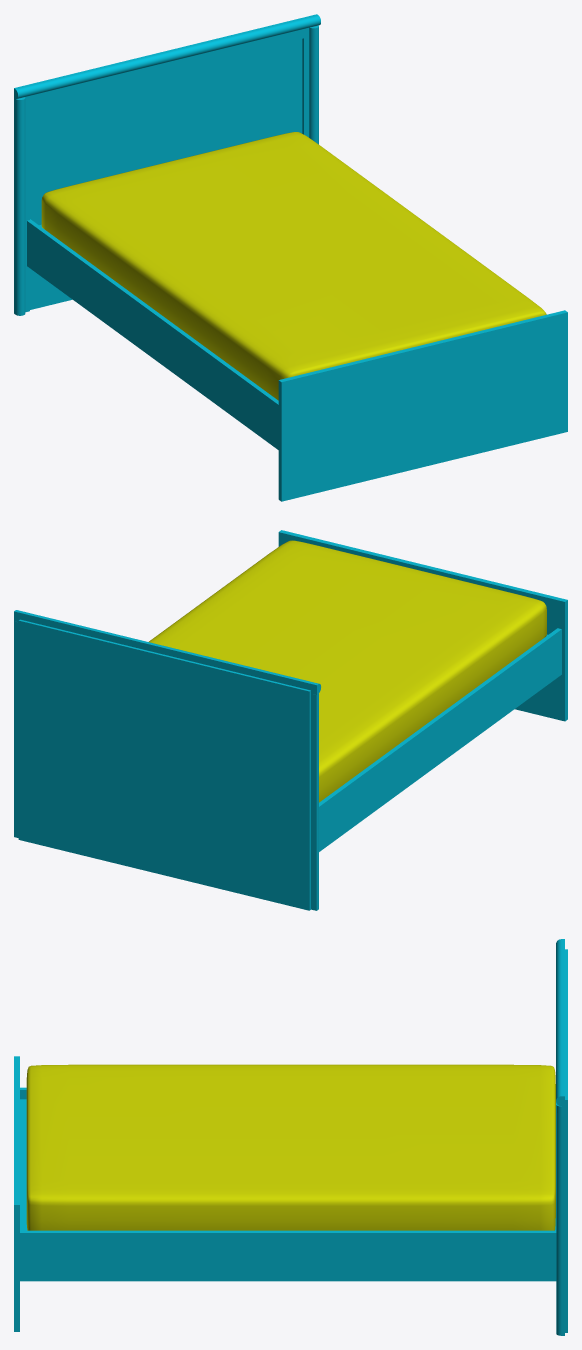
Rendered from SM_Bed_02.FBX.
3 views of the same model, one above another, from view 1: azimuth 30°, elevation 25°; view 2: azimuth 150°, elevation 25°; view 3: azimuth 270°, elevation 25° (orthographic). The views are drawn at different scales.
Visible parts, largest first — view 1: SM_Bed_02; view 2: SM_Bed_02; view 3: SM_Bed_02.
Part boxes in pixels (box(x1,y1,x2,y2)): SM_Bed_02: box(14, 14, 567, 501); SM_Bed_02: box(14, 530, 567, 910); SM_Bed_02: box(14, 939, 567, 1335).
Size of what is drawn, in the model's own units: 136 by 203 by 97.08.
